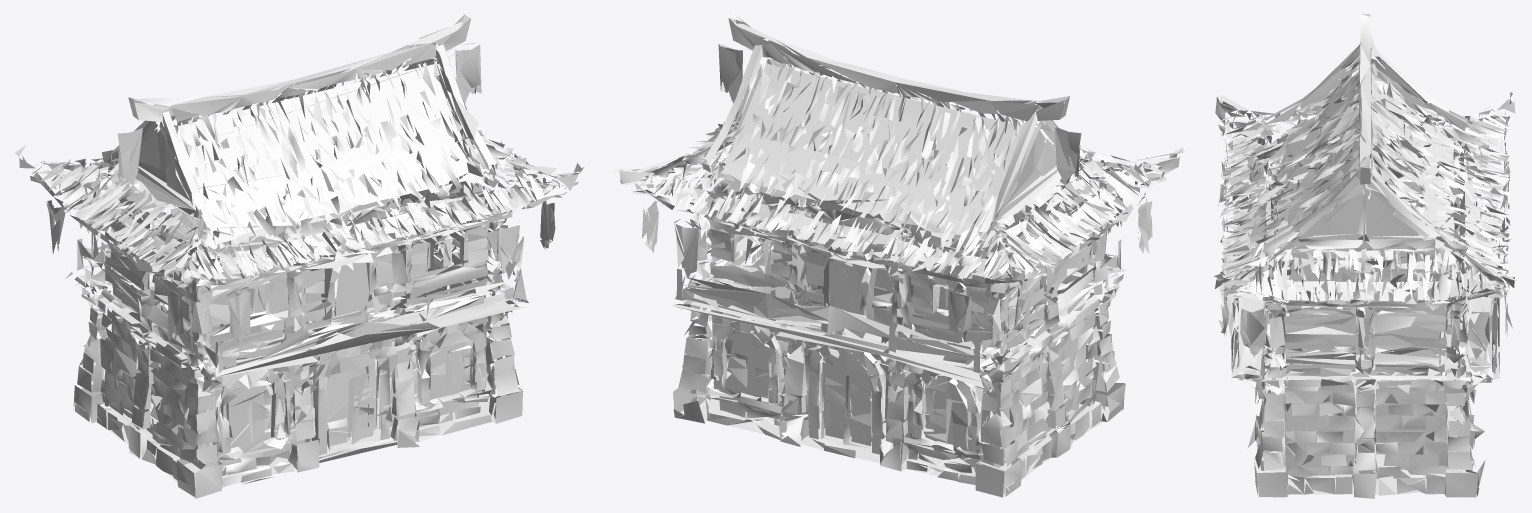
The model's file is house_stone_c_lod2.glb.
The picture shows the model from 3 angles, left to right: view 1: azimuth 30°, elevation 25°; view 2: azimuth 150°, elevation 25°; view 3: azimuth 270°, elevation 25°; orthographic projection. The views are drawn at different scales.
Visible parts, largest first — view 1: house_stone_c; view 2: house_stone_c; view 3: house_stone_c.
Boxes of the visible parts, bbox=[...] form: house_stone_c: bbox=[14, 14, 584, 498]; house_stone_c: bbox=[614, 14, 1184, 497]; house_stone_c: bbox=[1213, 14, 1516, 498].
Bounding box in the file's own units: 9.67 × 8.04 × 6.63.
1 material, 1 textured.
